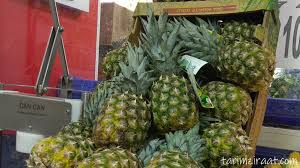pineapple: (92, 95, 149, 148), (212, 44, 278, 89), (149, 75, 198, 131)
